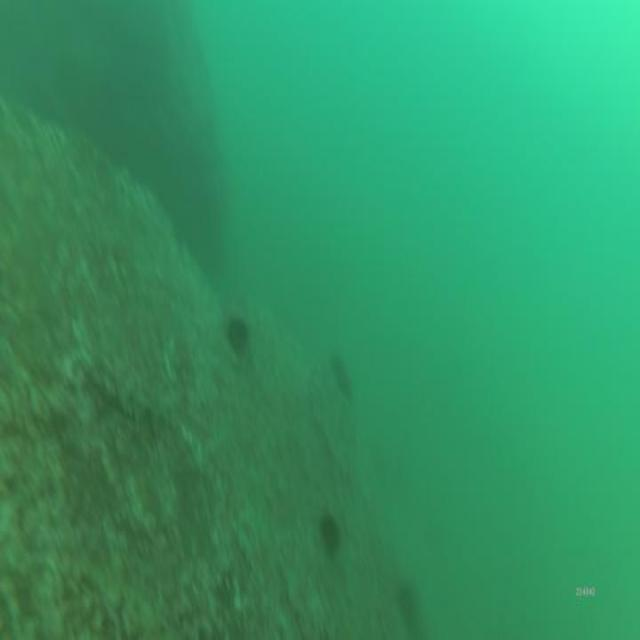echinus: (326, 346, 356, 411), (396, 578, 426, 640), (318, 504, 345, 567), (224, 308, 252, 362)
